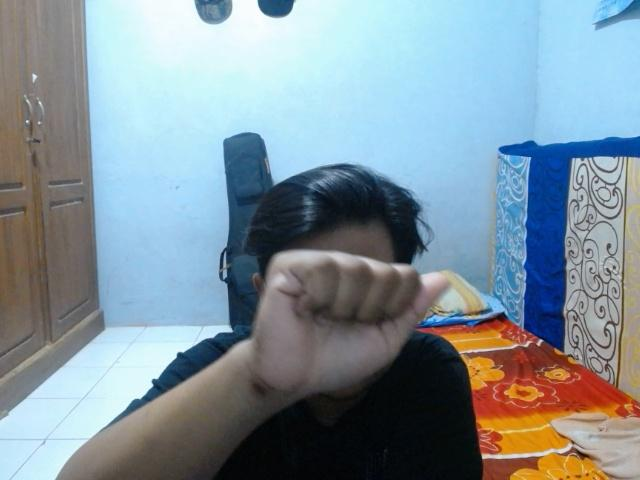Grab: (246, 244, 454, 418)
